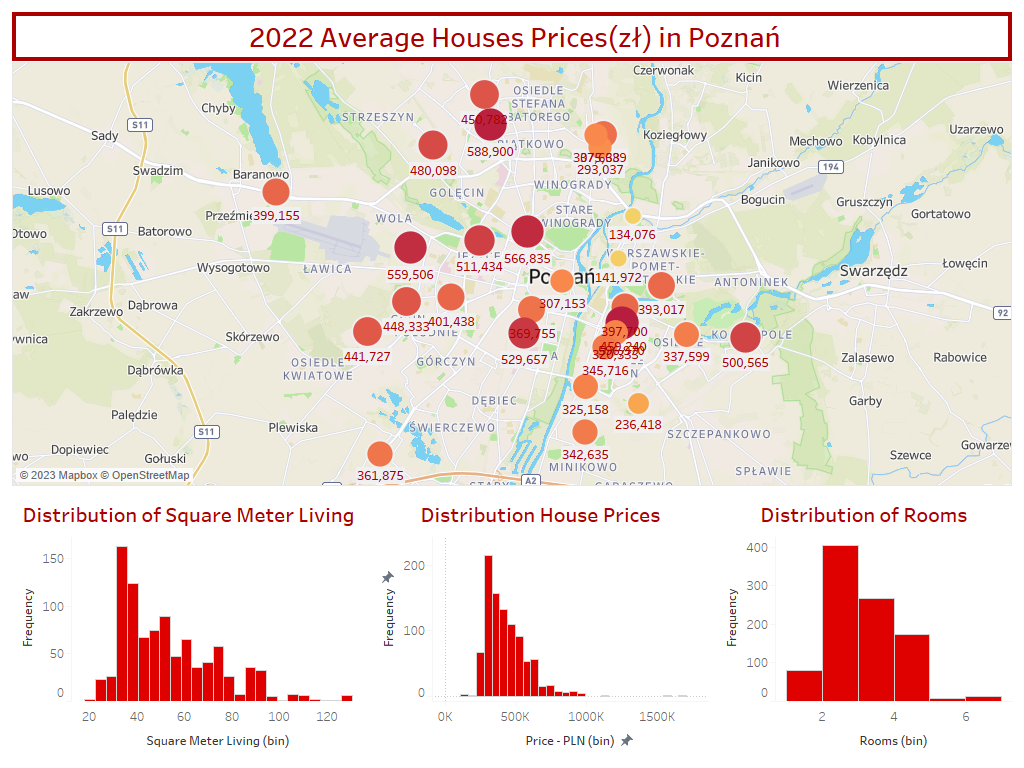

The page's visual inventory and layout, read from the dashboard file:
{"tool":"tableau","page":{"name":"Dashboard 1","canvas":[1024,768],"ordinal":0},"visuals":[{"type":"worksheet","title":"Sheet 5","mark":"Automatic","box":[8,8,1008,50]},{"type":"worksheet","title":"Map","mark":"Automatic","rows":["lat"],"cols":["long"],"box":[8,58,1008,432.5]},{"type":"worksheet","title":"HistSqftLiving","mark":"Automatic","rows":["sqft_living"],"cols":["Sqft Living (bin)"],"box":[8,490.5,360.6,269.5]},{"type":"worksheet","title":"Histogram House Price","mark":"Automatic","rows":["price"],"cols":["Price (bin)"],"box":[368.6,490.5,343.3,269.5]},{"type":"worksheet","title":"HistRooms","mark":"Automatic","rows":["rooms"],"cols":["Rooms (bin)"],"box":[712,490.5,304,269.5]}]}

Visuals, with their boxes in screenshot pixels (x1, y1, x2, y2), scaled from the page's 1024x768 canvas onto the 1024x768 screenshot:
"Sheet 5" worksheet: bbox(8, 8, 1016, 58)
"Map" worksheet: bbox(8, 58, 1016, 490)
"HistSqftLiving" worksheet: bbox(8, 490, 369, 760)
"Histogram House Price" worksheet: bbox(369, 490, 712, 760)
"HistRooms" worksheet: bbox(712, 490, 1016, 760)
